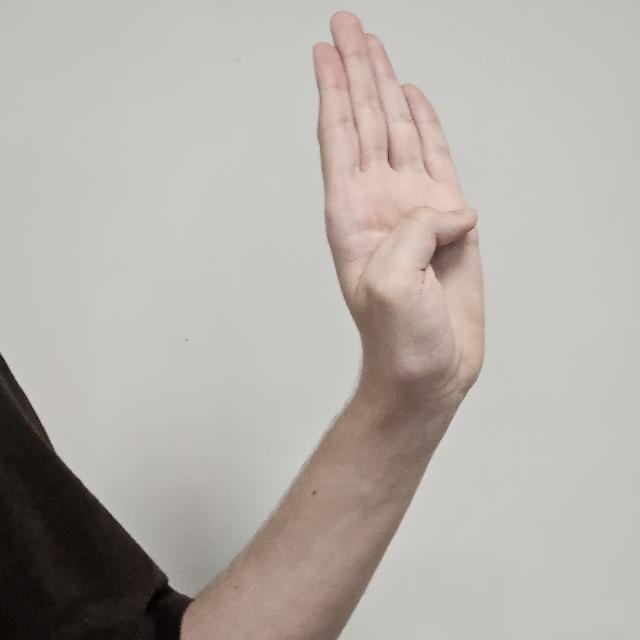Baixo: (307, 9, 498, 465)
